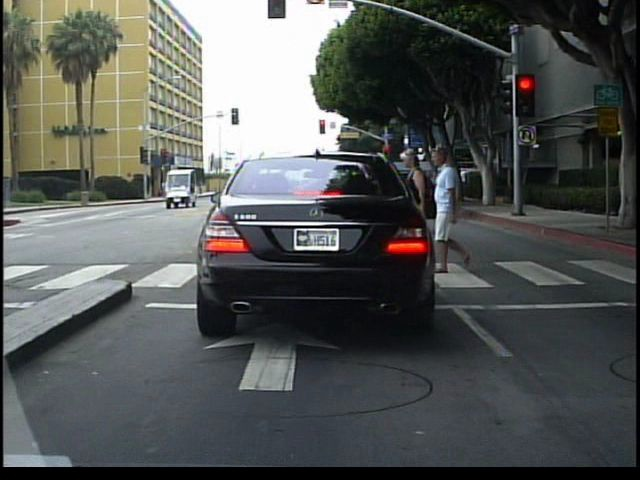person: (431, 141, 482, 280), (394, 142, 436, 265)
